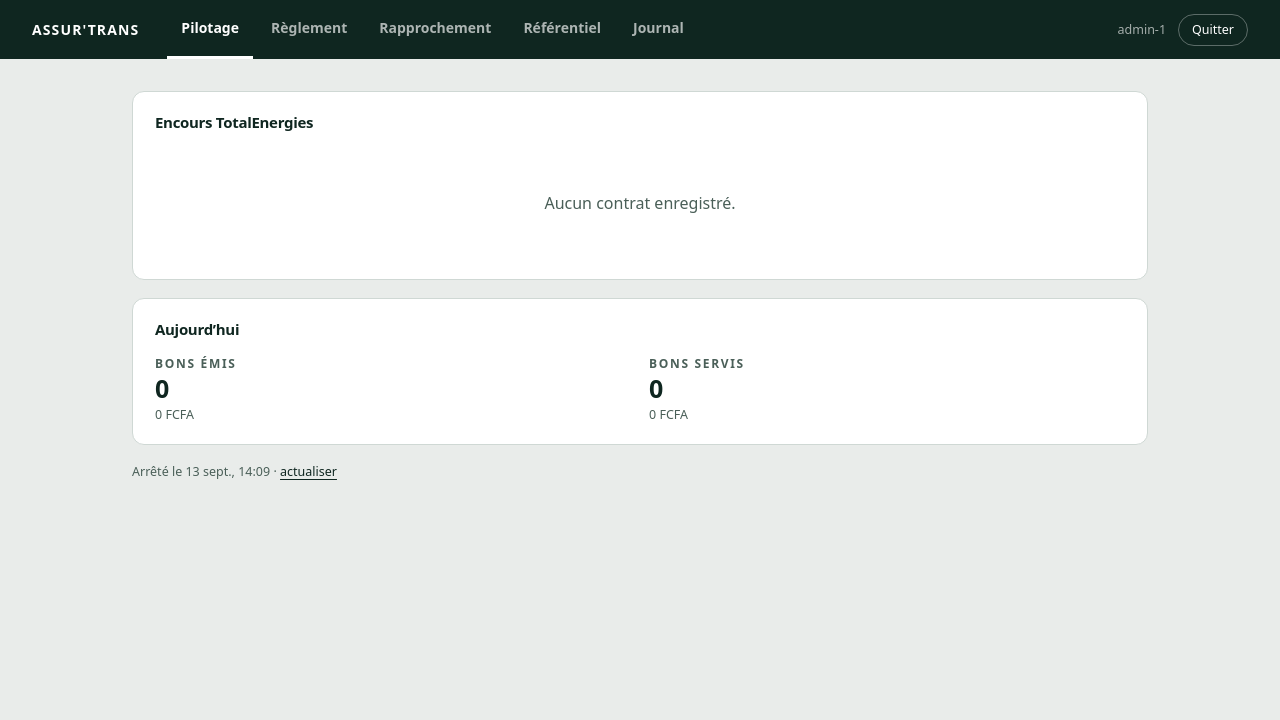
Test: un relevé vide › dit que rien n’a été saisi, et pourquoi cela compte
Click the button "Rapprochement". click: (435, 30)
box: left=365, top=0, right=505, bottom=59
(page scrolled)
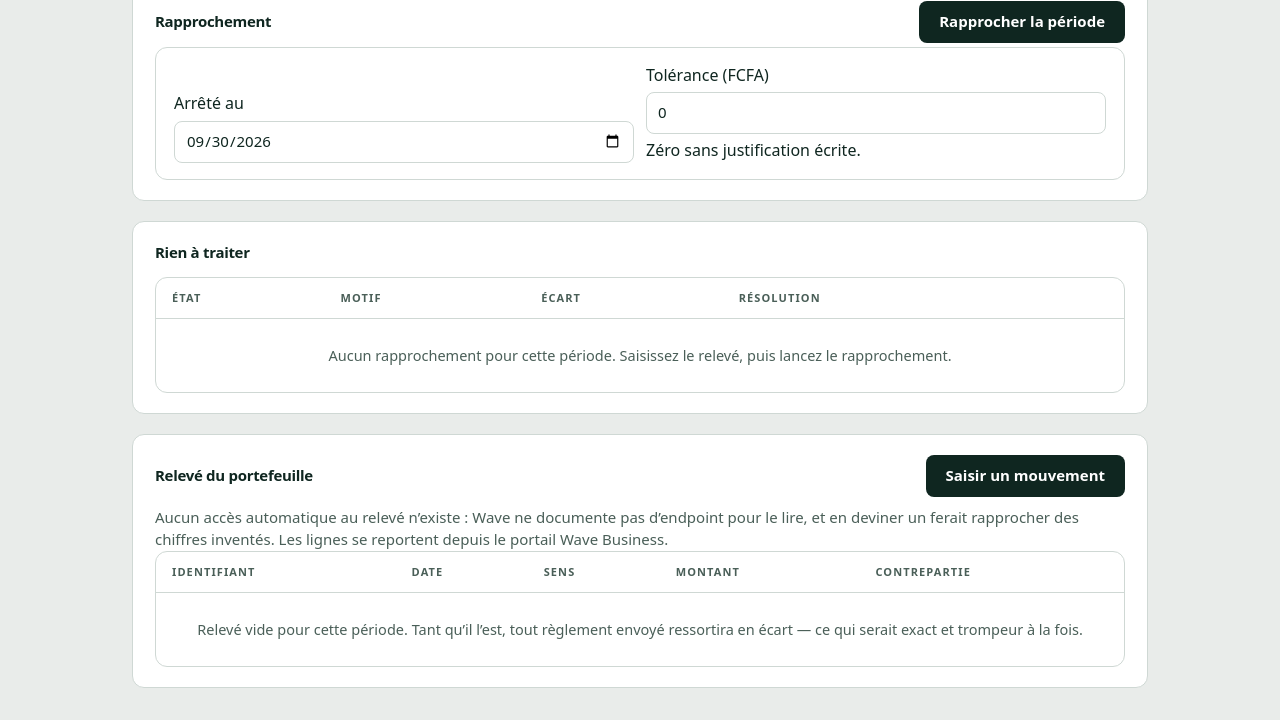
Now the text "Relevé vide pour cette période" shows "ressortira en écart", box left=197, top=619, right=1083, bottom=639
